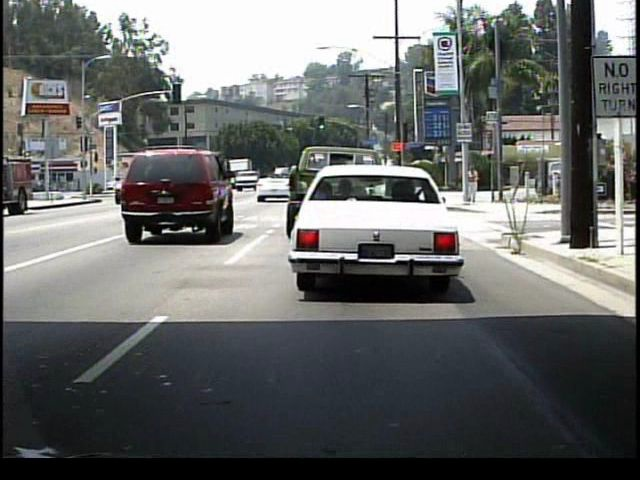person: (468, 167, 481, 205)
